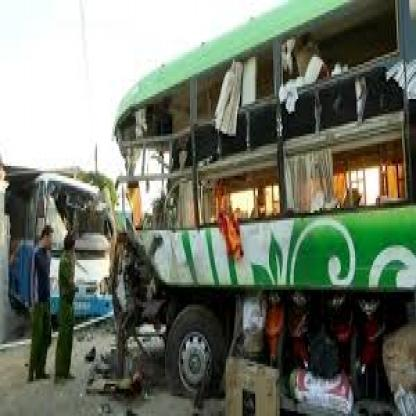accident: (14, 22, 416, 399)
